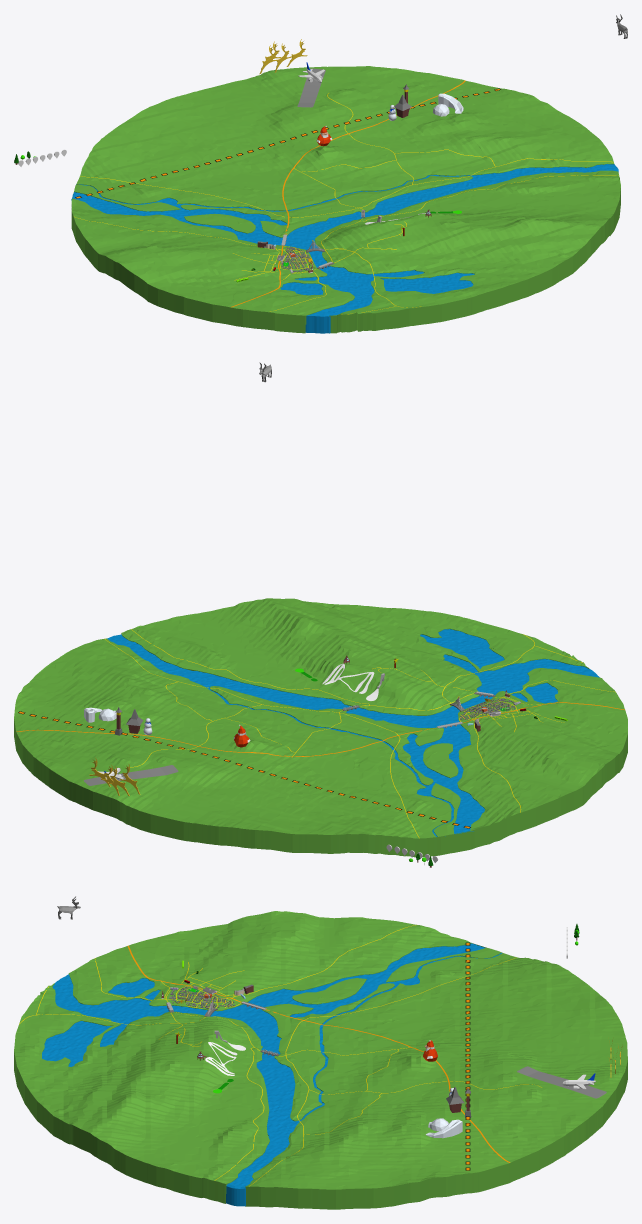
Rendered from RovaniemiTerrain4.fbx.
3 views of the same model, one above another, from view 1: azimuth 30°, elevation 25°; view 2: azimuth 150°, elevation 25°; view 3: azimuth 270°, elevation 25° (orthographic). The views are drawn at different scales.
Visible parts, largest first — view 1: terrain, Plane.001, tiet, napapiiri_iso_viiva, lentokentta, lentokentta_porot, snowman_world; view 2: terrain, Plane.001, tiet; view 3: terrain, Plane.001, tiet, napapiiri_iso_viiva, lentokentta, Plane, snowman_world.
Part boxes in pixels (box(x1,y1,x2,y2)): terrain: box(71, 66, 620, 333); Plane.001: box(71, 164, 618, 333); tiet: box(74, 80, 618, 314); napapiiri_iso_viiva: box(75, 88, 500, 198); lentokentta: box(297, 68, 325, 107); lentokentta_porot: box(259, 39, 307, 74); snowman_world: box(433, 93, 463, 116); terrain: box(14, 598, 627, 857); Plane.001: box(107, 629, 599, 836); tiet: box(16, 629, 624, 838); terrain: box(14, 911, 627, 1209); Plane.001: box(42, 943, 501, 1206); tiet: box(19, 925, 541, 1186); napapiiri_iso_viiva: box(465, 942, 470, 1170); lentokentta: box(517, 1066, 606, 1098); Plane: box(169, 986, 234, 1008); snowman_world: box(426, 1118, 462, 1138).
Bounding box in the file's own units: 19876 × 9169 × 18888.
